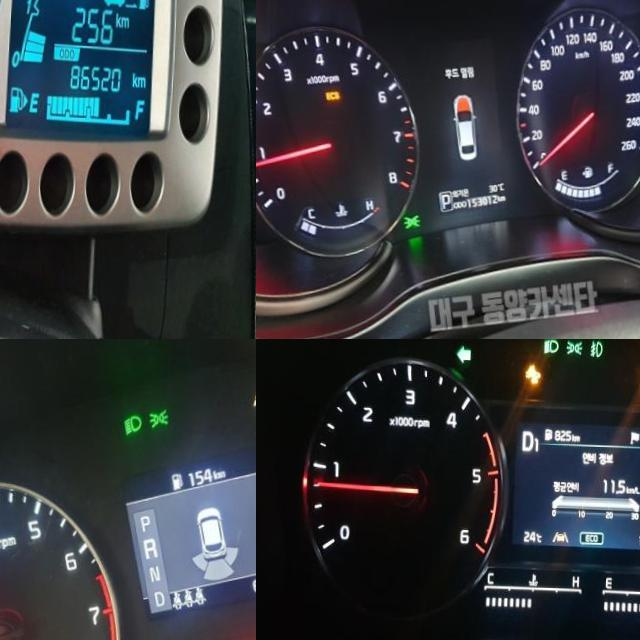FrontFogLight: (590, 339, 603, 356)
LaneCenteringOff: (250, 382, 256, 404)
Low beam: (121, 410, 144, 435), (543, 339, 560, 352)
SideLamp: (147, 404, 170, 428), (404, 211, 423, 229), (565, 339, 583, 352)
